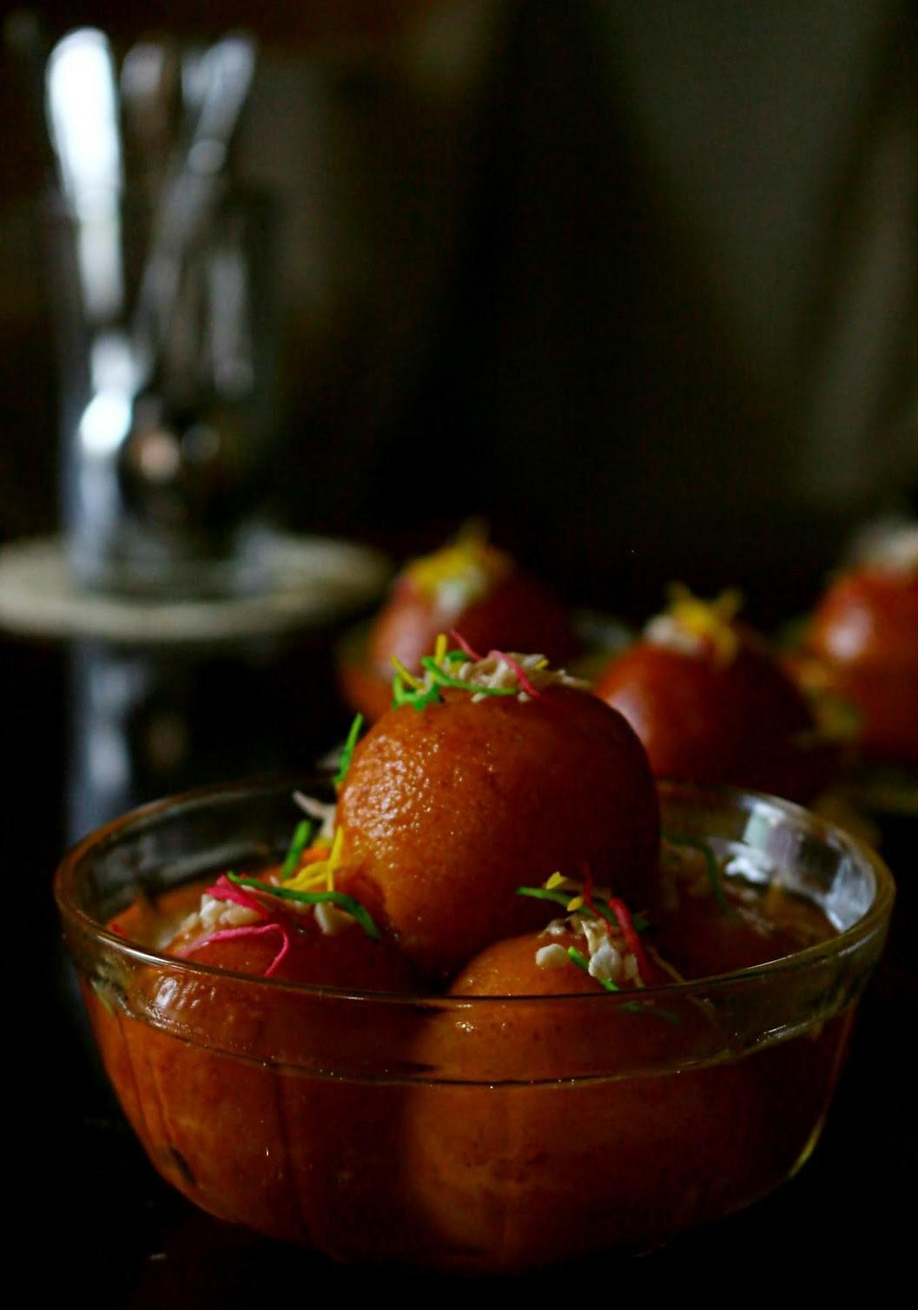GulabJamun: (414, 866, 762, 1261), (334, 650, 669, 963), (137, 872, 411, 1223), (591, 598, 814, 792), (371, 536, 573, 705), (799, 525, 918, 790)
